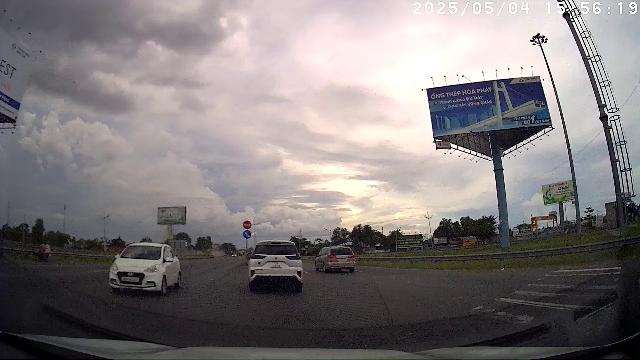102-cam-di-nguoc-chieu: (243, 220, 252, 229)
302a-huong-phai-di-vong-chuong-ngai-vat-1: (243, 230, 252, 239)
